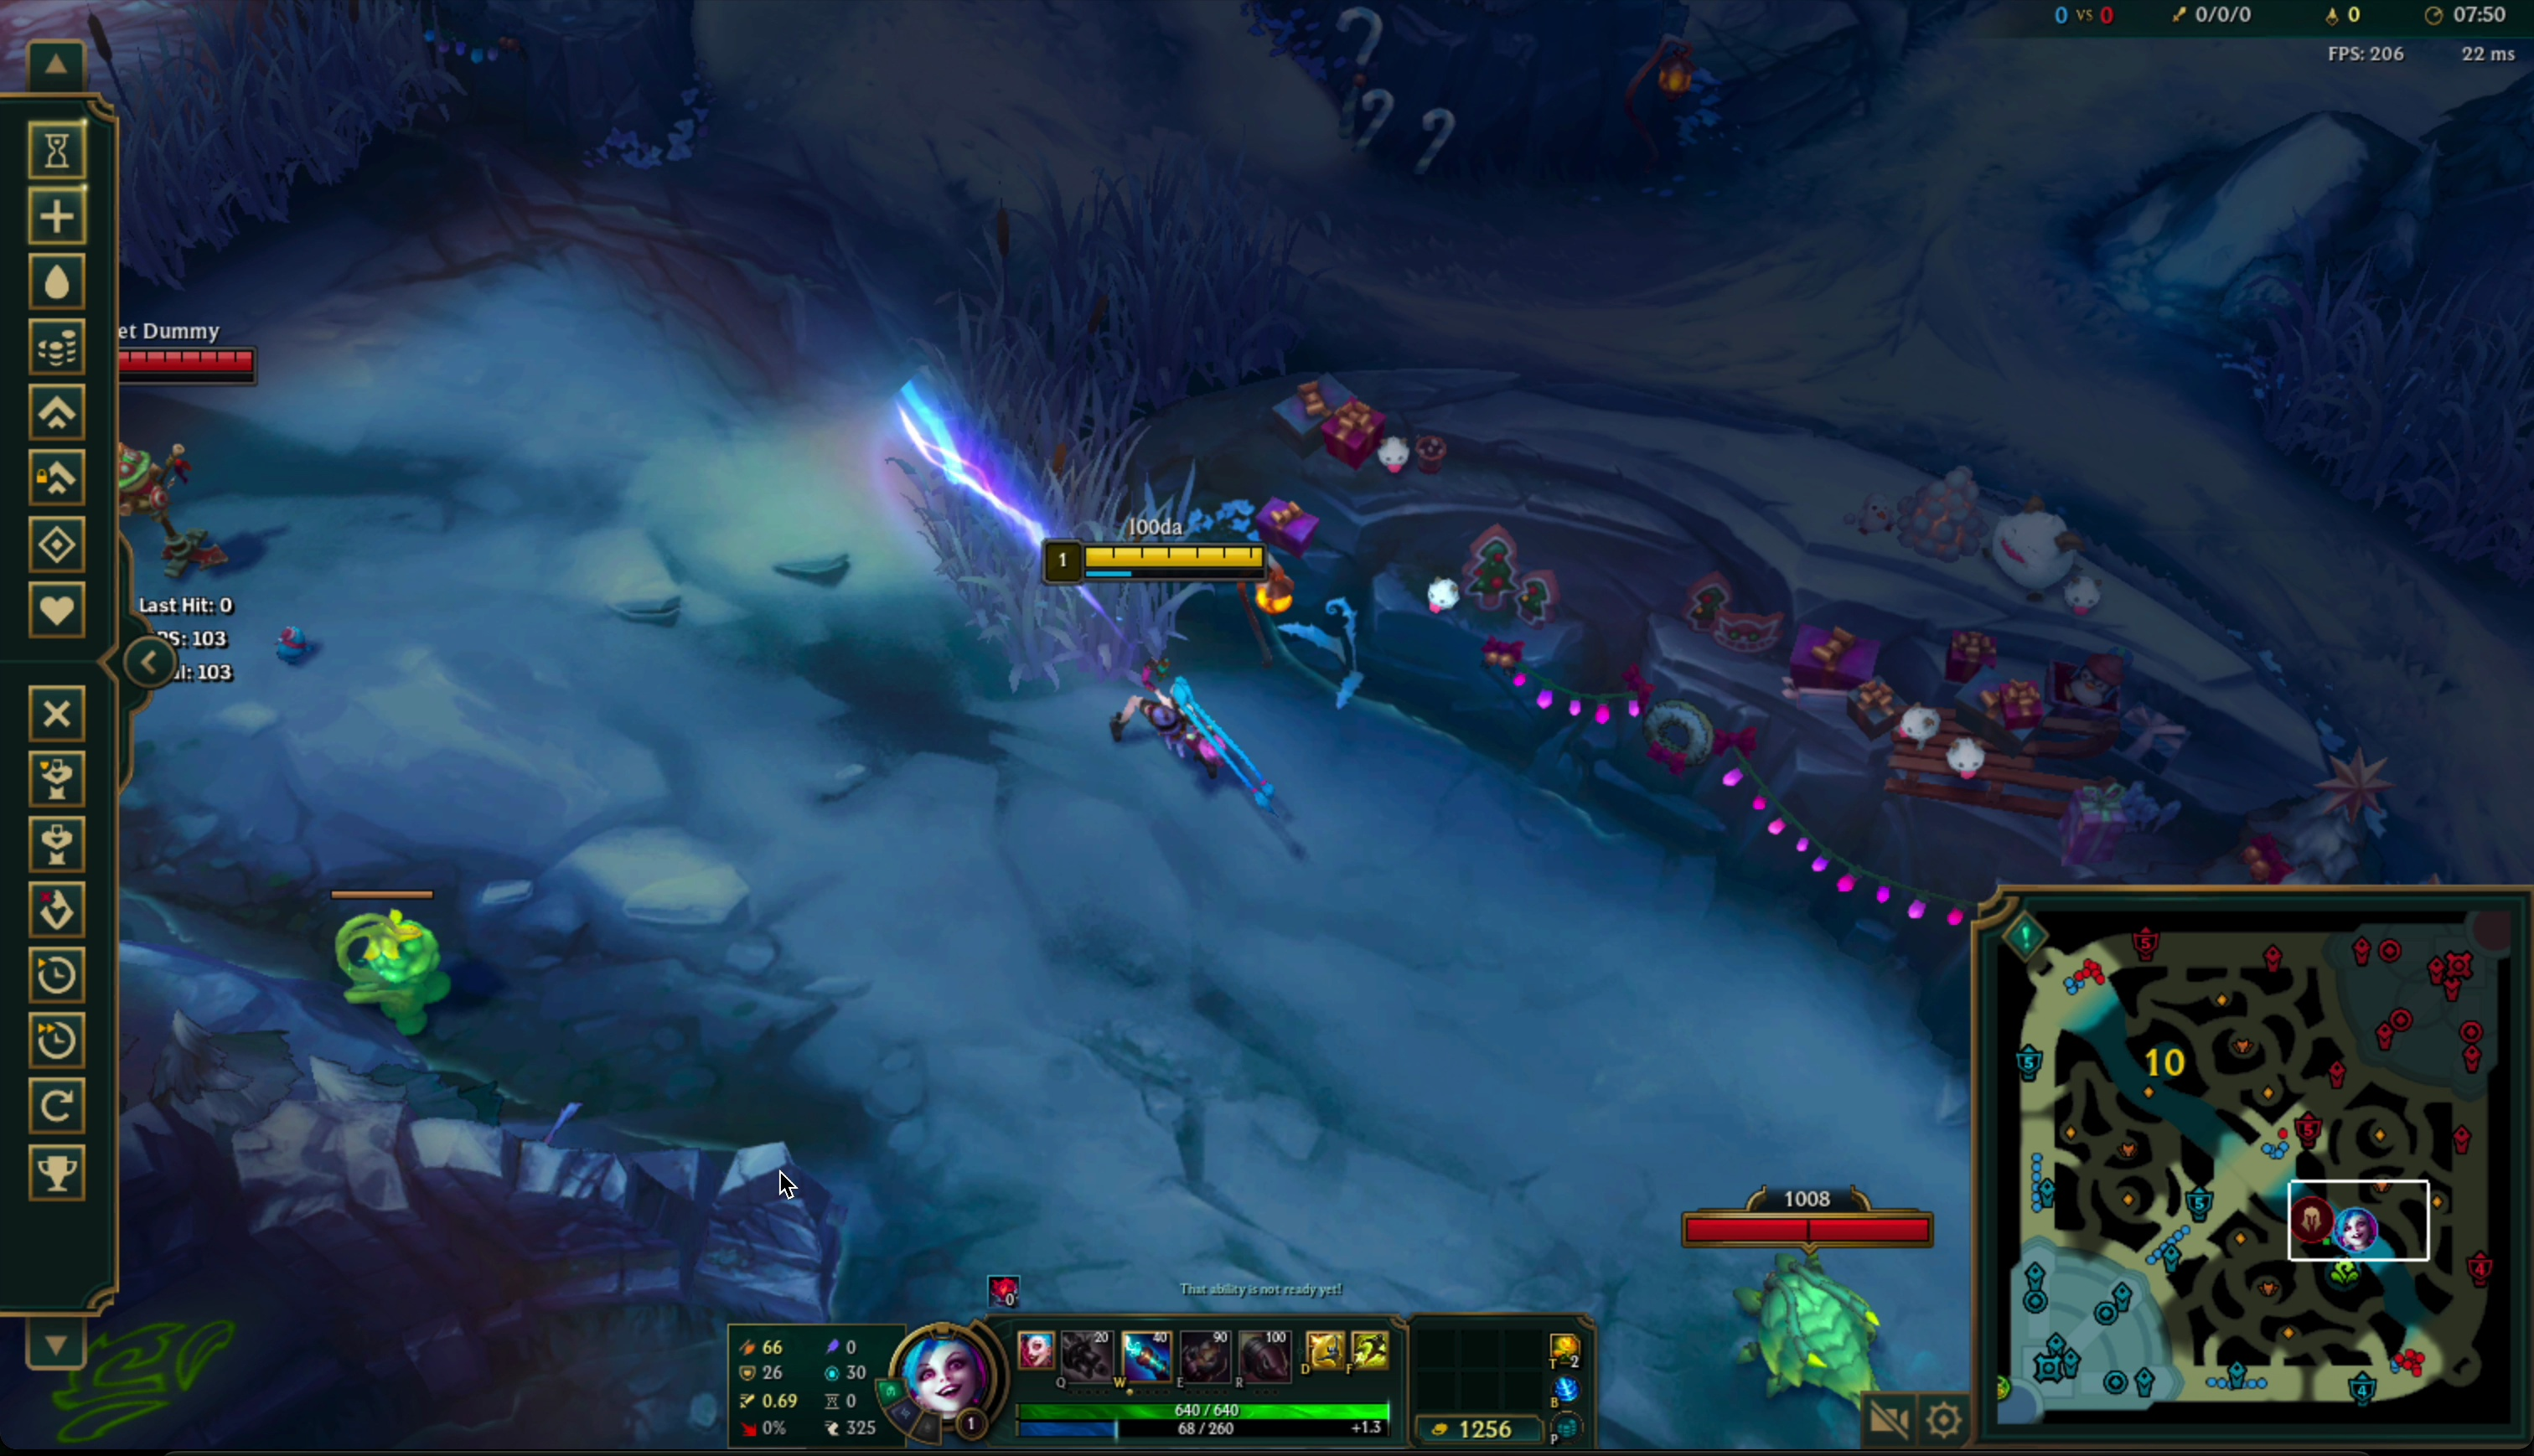JINX_W_PROJECTILE: (823, 344, 1190, 637)
